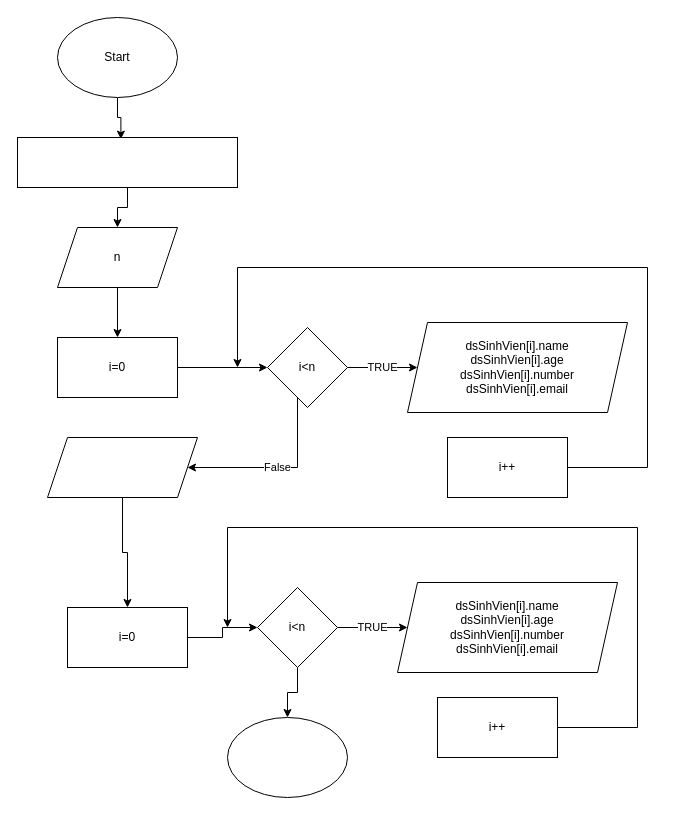
Some shapes in this 673 by 815 pixel diagram are drawn without their labels. Each missing label, with the centre of its shape:
Danh sách sinh viên: the point at 122,467
End: the point at 287,757
name[50], age, number, email[100]: the point at 127,162
